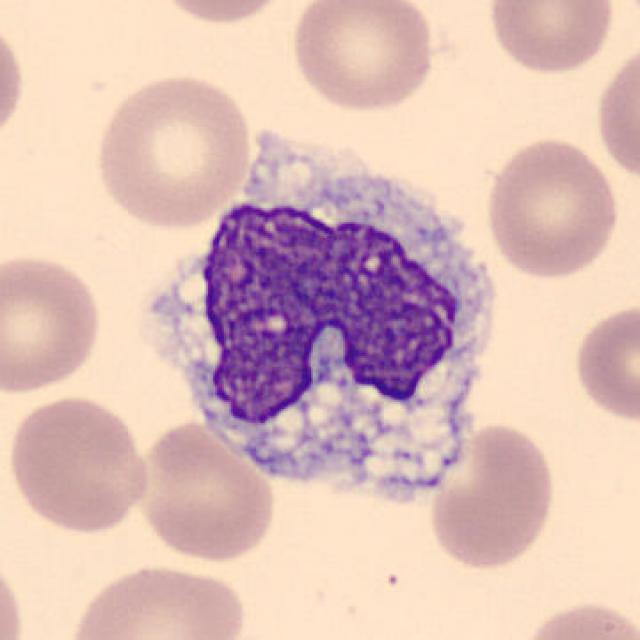Monocyte: (135, 127, 516, 515)
RBC: (89, 69, 258, 231), (130, 416, 279, 564), (3, 391, 153, 536), (480, 132, 622, 282), (423, 420, 560, 573), (286, 0, 439, 115), (0, 248, 105, 396), (62, 559, 252, 640), (482, 0, 618, 78), (569, 298, 638, 425), (592, 37, 640, 187), (516, 596, 638, 640), (0, 12, 30, 155), (146, 0, 297, 28), (0, 550, 27, 640), (606, 0, 640, 25)
